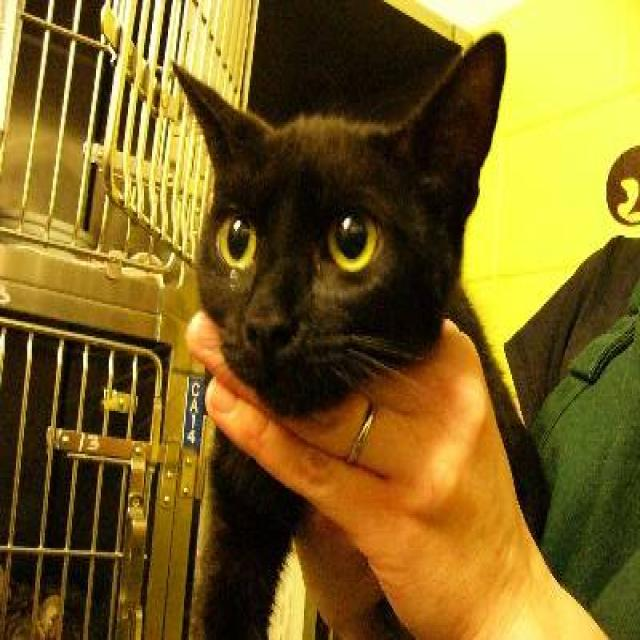cat: (168, 4, 546, 638)
